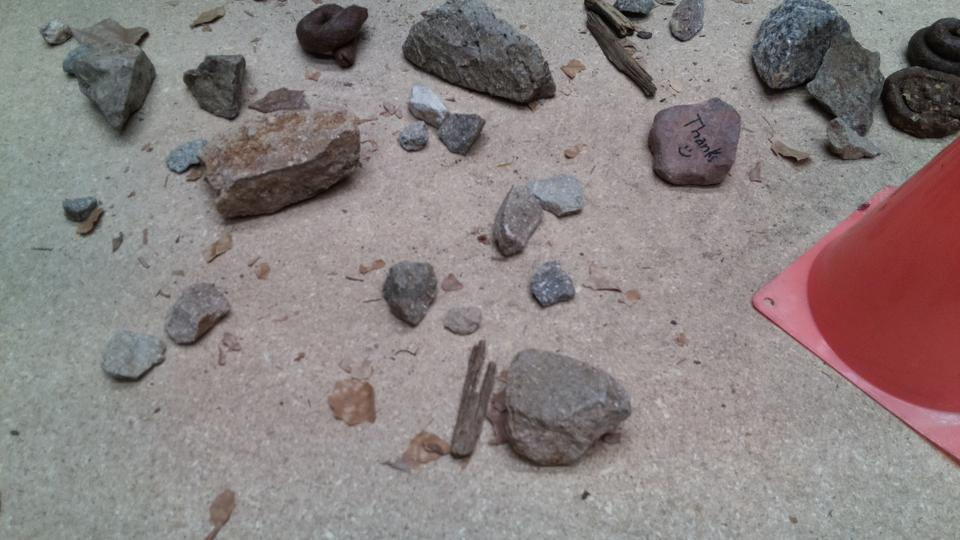poop: (879, 65, 960, 139), (293, 1, 369, 71), (902, 15, 960, 67)
